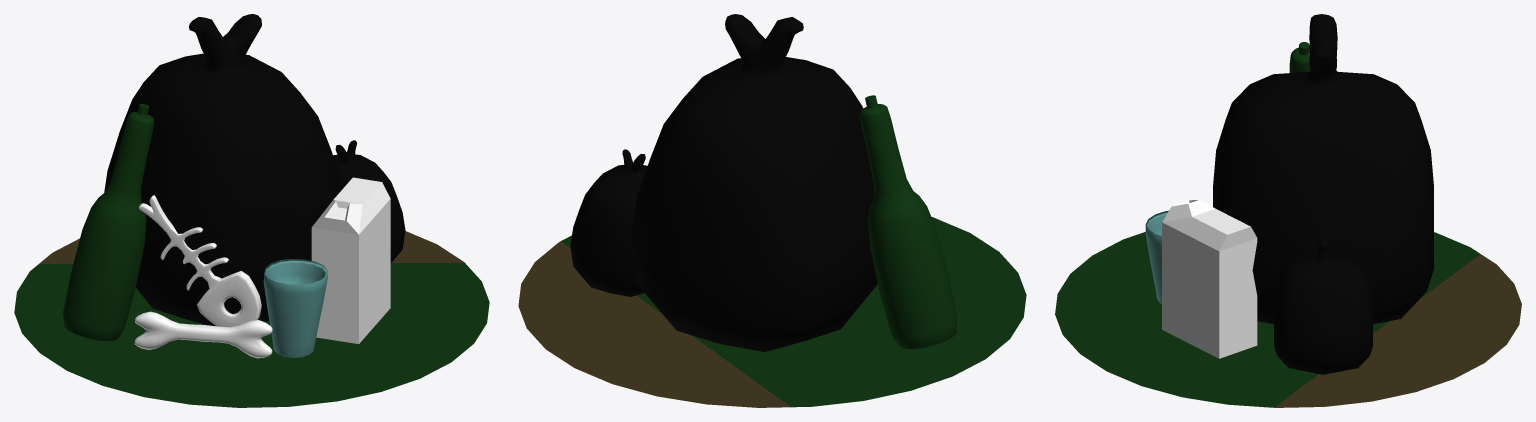
The model's file is Basura.fbx.
The picture shows the model from 3 angles, left to right: view 1: azimuth 30°, elevation 25°; view 2: azimuth 150°, elevation 25°; view 3: azimuth 270°, elevation 25°; orthographic projection. The views are drawn at different scales.
Parts seen in each view (by area): view 1: Basura; view 2: Basura; view 3: Basura.
Boxes of the visible parts, x1=… form: Basura: x1=14, y1=14, x2=489, y2=407; Basura: x1=518, y1=14, x2=1026, y2=407; Basura: x1=1055, y1=14, x2=1521, y2=407.
Bounding box in the file's own units: 3.92 × 2.63 × 3.92.
